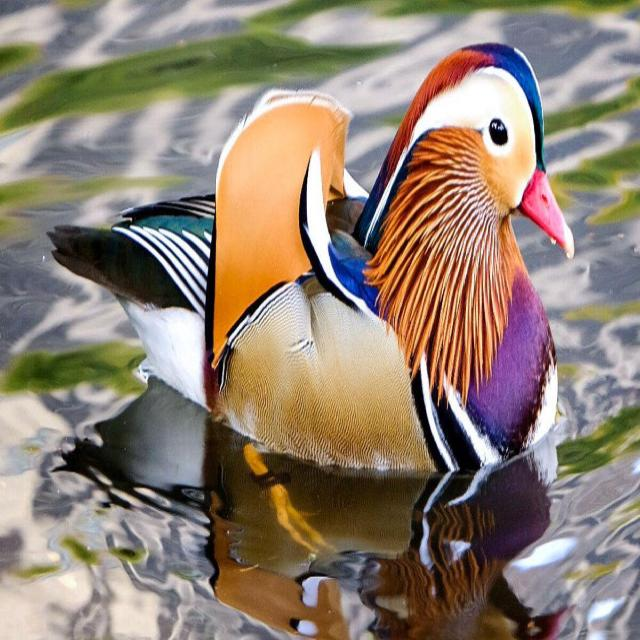Duck: (44, 24, 577, 516)
